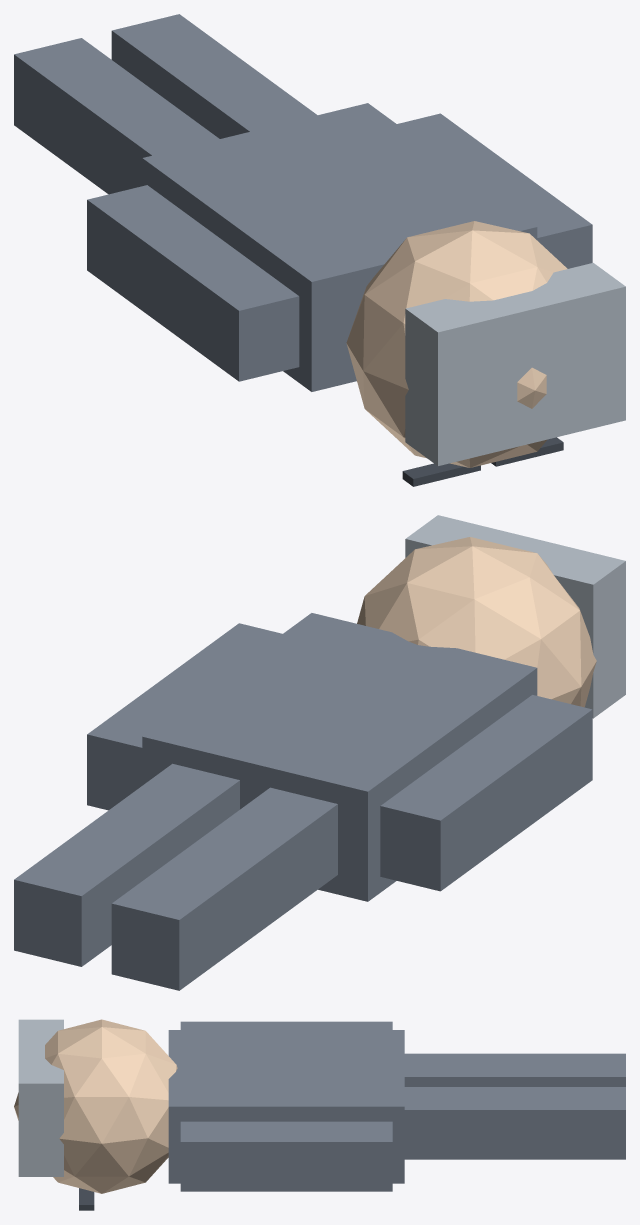
File: engineer.glb
3 renders of one model, top to bottom at view 1: azimuth 30°, elevation 25°; view 2: azimuth 150°, elevation 25°; view 3: azimuth 270°, elevation 25°, orthographic. The views are drawn at different scales.
Parts seen in each view (by area): view 1: torso, hair, arm_l, head, leg_l, leg_r, arm_r, glasses_l; view 2: torso, leg_l, arm_l, head, leg_r, hair, arm_r; view 3: torso, head, leg_r, arm_r, leg_l, hair, arm_l, glasses_r.
Part boxes in pixels (box(x1,y1,x2,y2)): torso: box(142, 103, 537, 391); hair: box(405, 263, 625, 465); arm_l: box(87, 185, 299, 381); head: box(346, 221, 567, 467); leg_l: box(14, 38, 219, 194); leg_r: box(111, 14, 317, 138); arm_r: box(397, 113, 592, 268); glasses_l: box(402, 463, 480, 486); torso: box(142, 613, 537, 901); leg_l: box(111, 787, 337, 990); arm_l: box(380, 695, 592, 891); head: box(357, 537, 596, 707); leg_r: box(14, 763, 239, 966); hair: box(405, 515, 625, 718); arm_r: box(87, 623, 282, 810); torso: box(168, 1030, 404, 1183); head: box(14, 1019, 177, 1193); leg_r: box(404, 1087, 625, 1159); arm_r: box(180, 1121, 392, 1191); leg_l: box(404, 1053, 625, 1086); hair: box(18, 1019, 63, 1176); arm_l: box(180, 1021, 392, 1029); glasses_r: box(79, 1188, 94, 1210).
Bounding box in the file's own units: 0.94 × 0.58 × 2.02.
